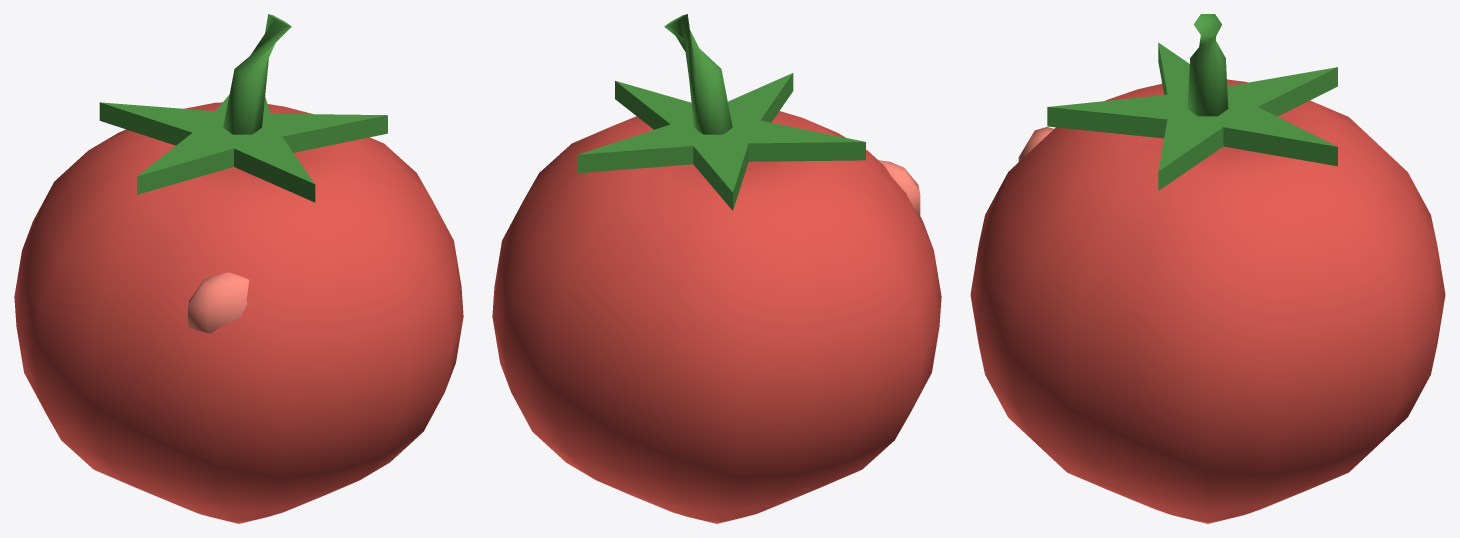
File: tomate.glb
3 renders of one model, left to right at view 1: azimuth 30°, elevation 25°; view 2: azimuth 150°, elevation 25°; view 3: azimuth 270°, elevation 25°, orthographic. The views are drawn at different scales.
Visible parts, largest first — view 1: tomate; view 2: tomate; view 3: tomate.
Boxes of the visible parts, x1=… form: tomate: x1=14, y1=14, x2=463, y2=523; tomate: x1=492, y1=14, x2=941, y2=523; tomate: x1=970, y1=14, x2=1445, y2=523.
Size of the model in its own units: 0.14 by 0.1627 by 0.133.
